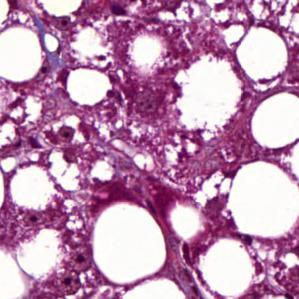steatosis: (93, 201, 168, 284)
